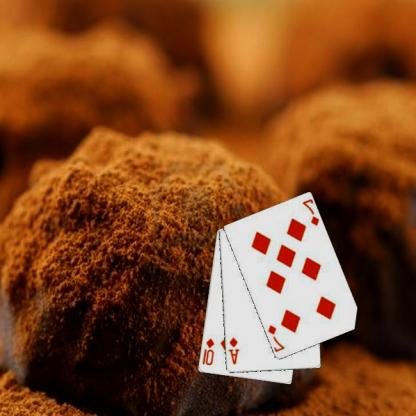10D: (201, 336, 217, 367)
7D: (267, 323, 288, 353), (301, 197, 322, 227)
AD: (228, 336, 242, 366)
